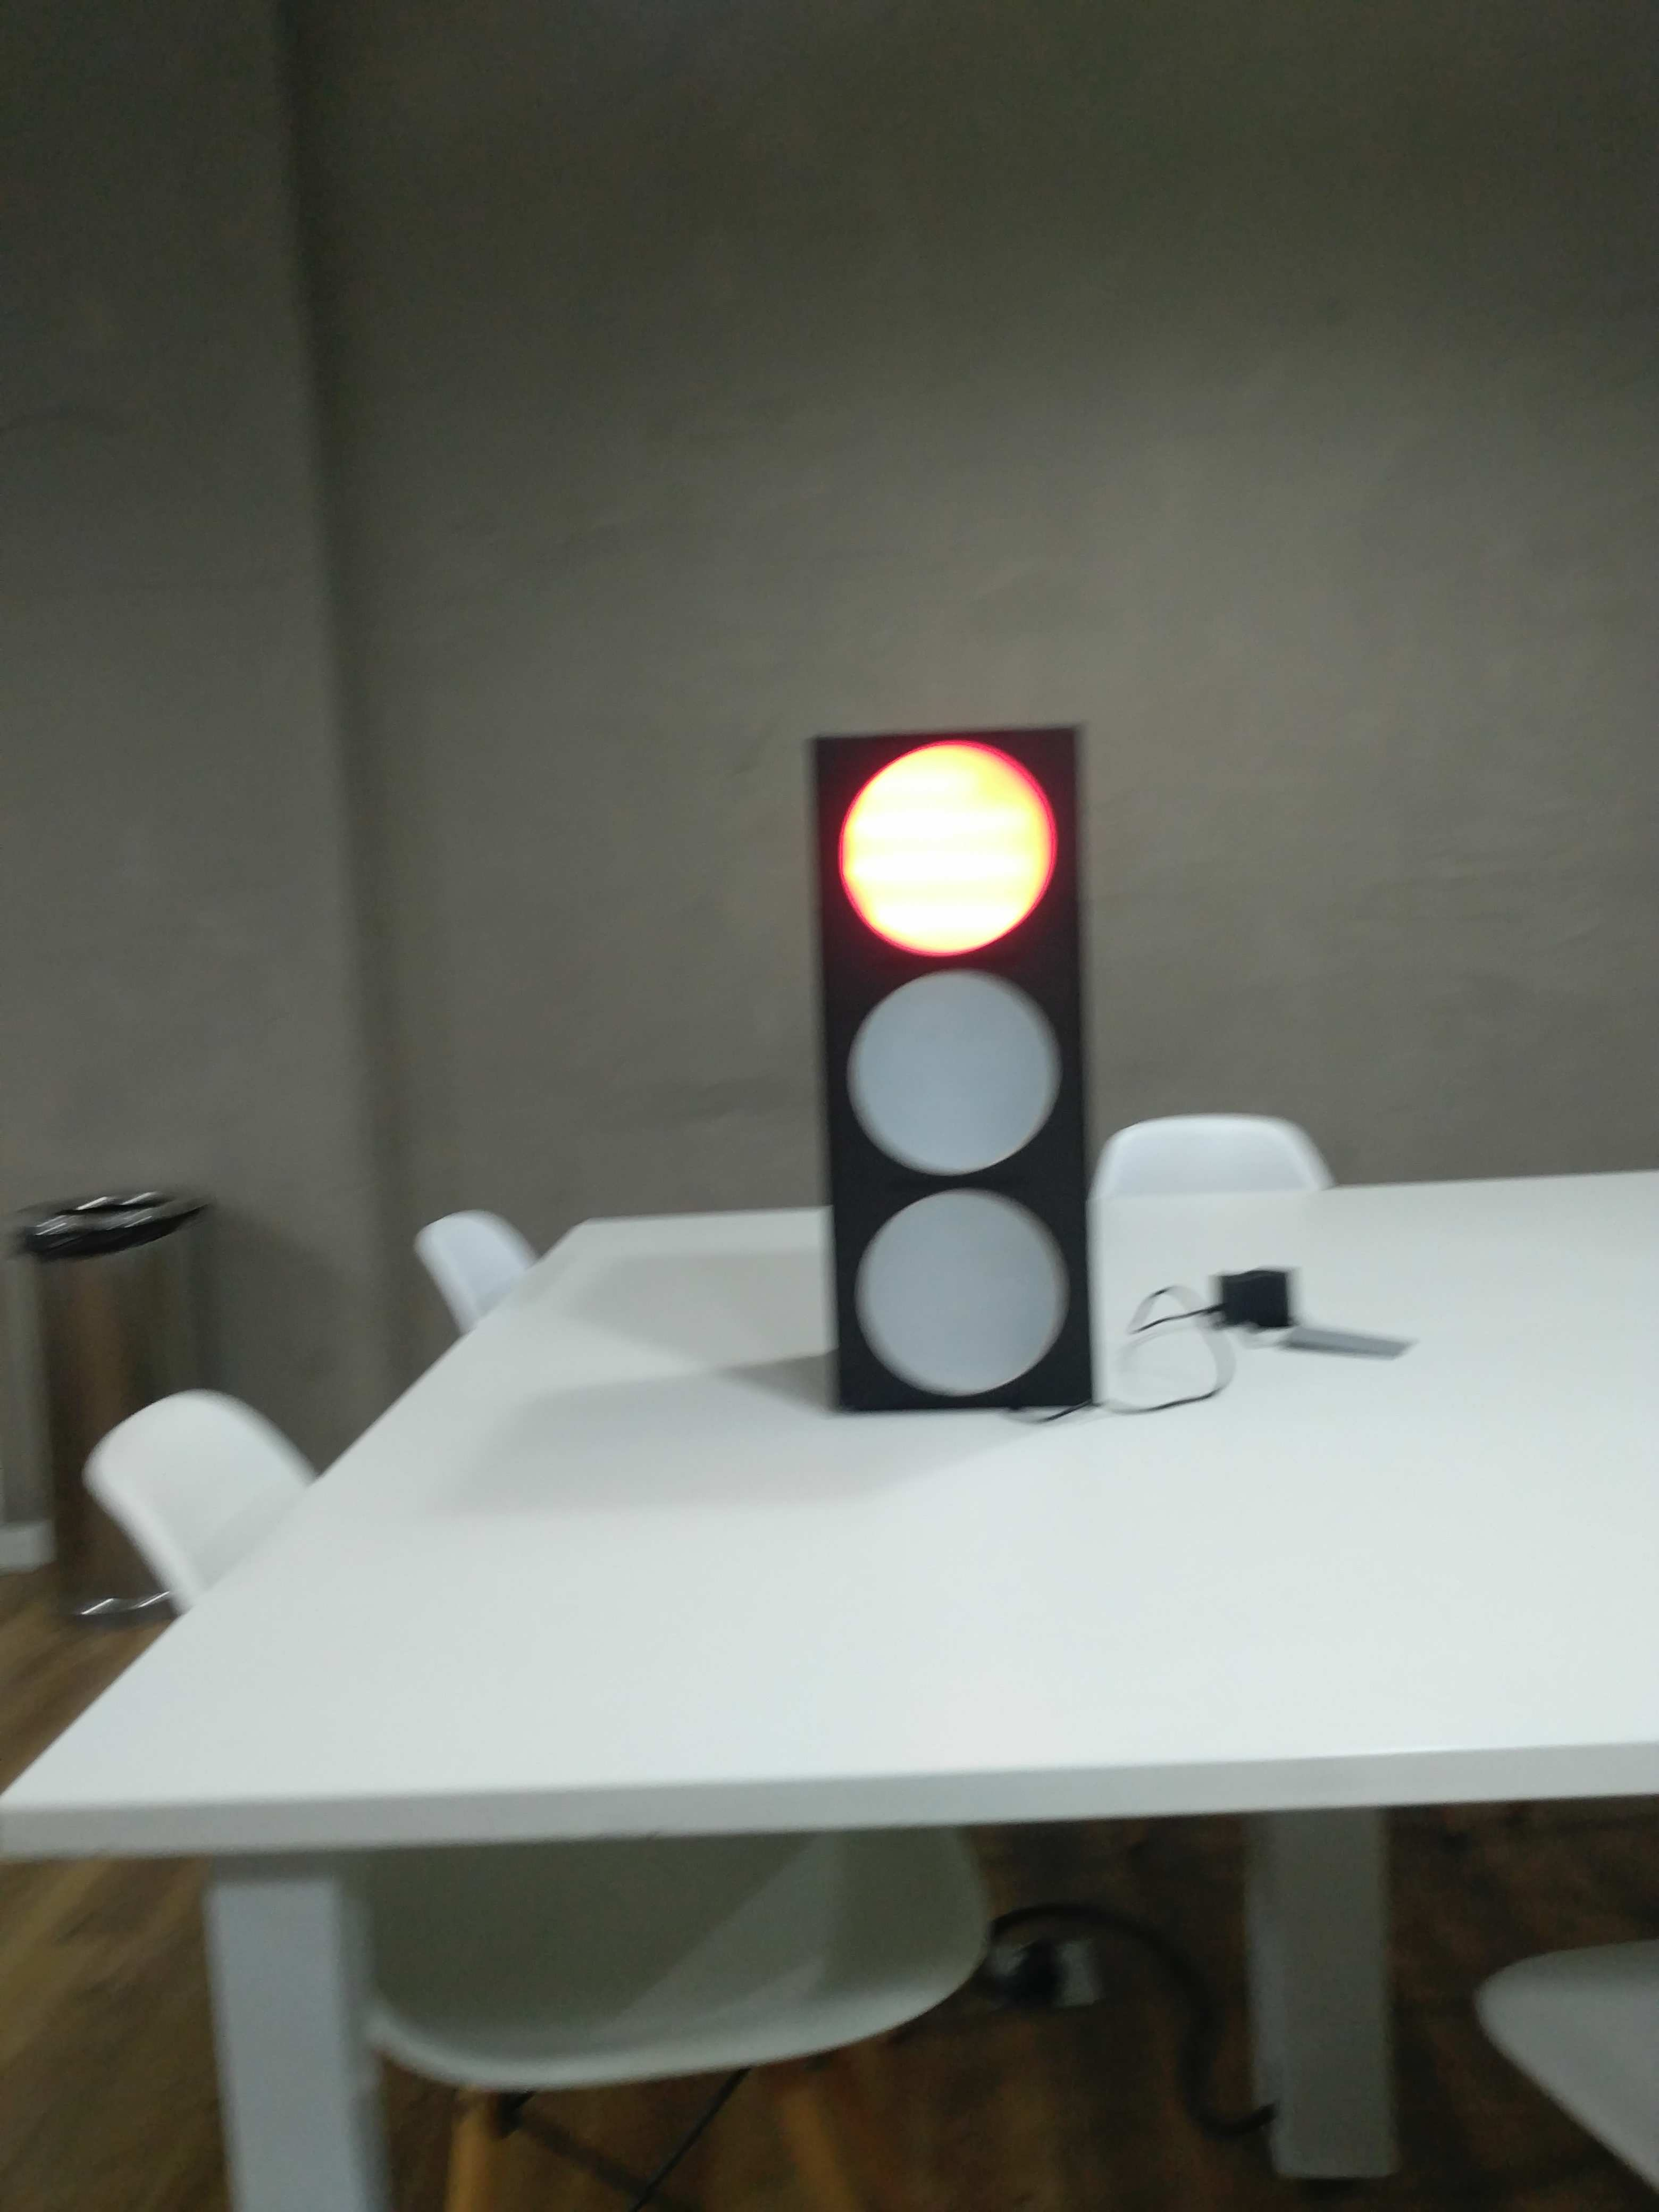stop: (812, 726, 1094, 1413)
